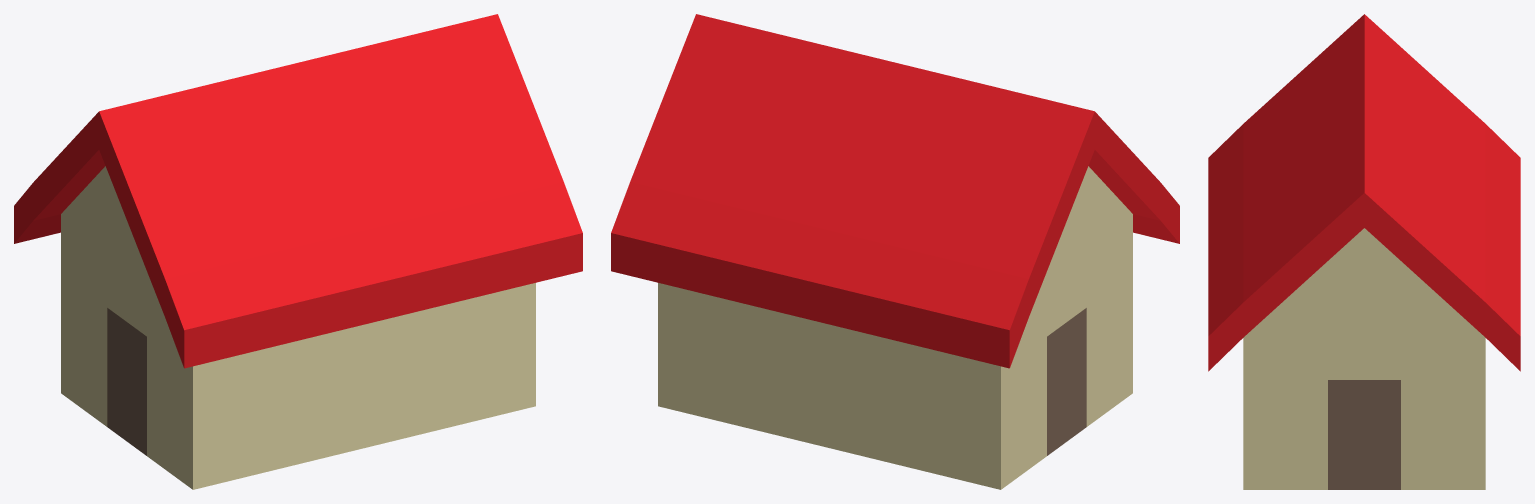
Rendered from MAISON.fbx.
3 renders of one model, left to right at view 1: azimuth 30°, elevation 25°; view 2: azimuth 150°, elevation 25°; view 3: azimuth 270°, elevation 25°, orthographic. The views are drawn at different scales.
Visible parts, largest first — view 1: maison; view 2: maison; view 3: maison.
Part boxes in pixels (x1,y1,x2,y2): maison: (14,14,582,489); maison: (611,14,1179,489); maison: (1208,14,1520,489).
Bounding box in the file's own units: 6.98 × 5.64 × 5.16.
Materials: 1 (1 with a texture image).
